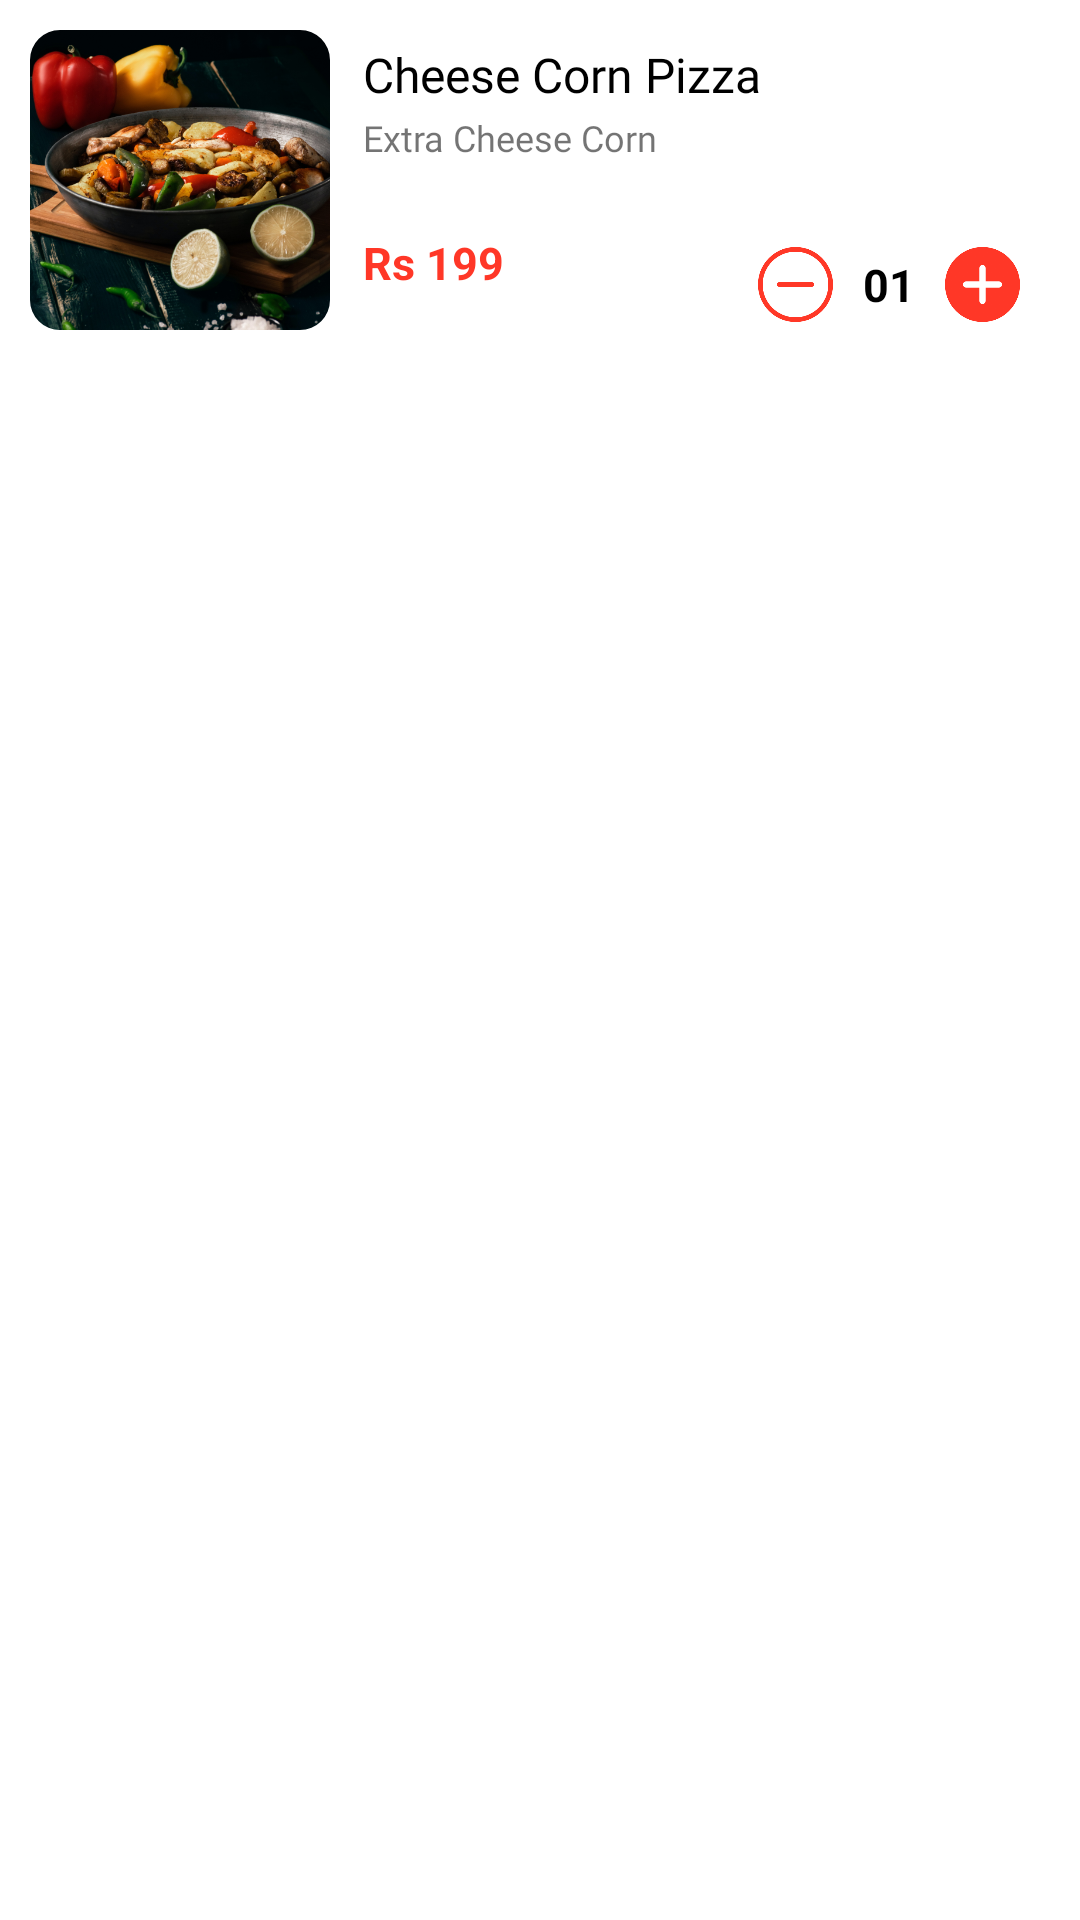

Named icons in this screenshot (1080x1920) and their bounding boxes, box(x1, y1, x2, y2):
food: box(30, 30, 330, 330)
minus: box(758, 247, 833, 322)
plus: box(945, 247, 1020, 322)
